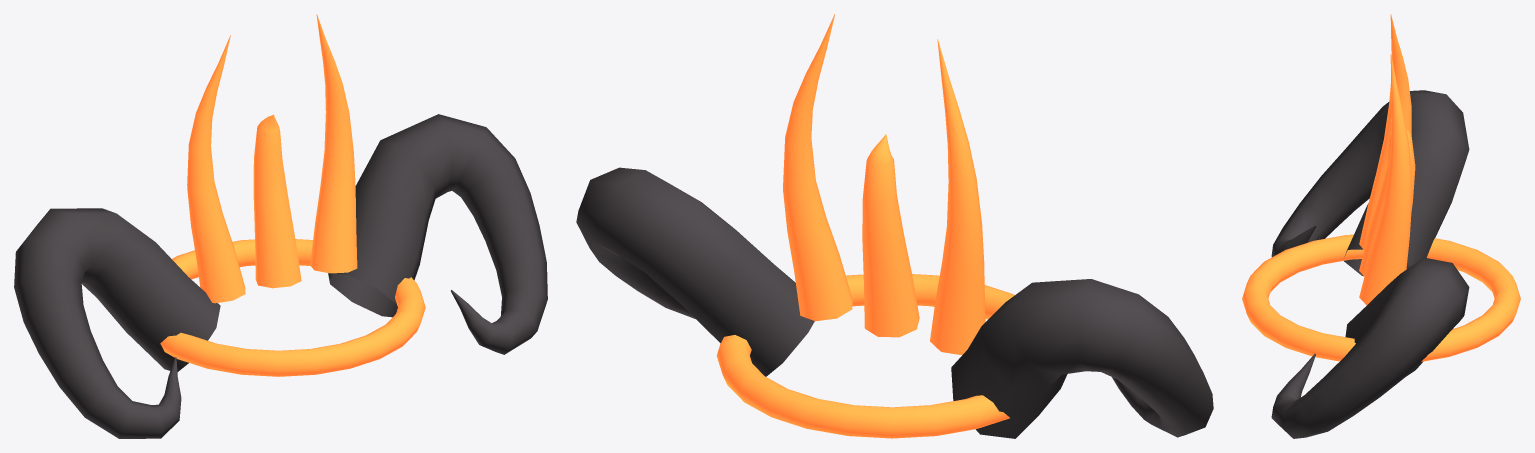
Rendered from PyreCrown.fbx.
3 views of the same model, side by side, from view 1: azimuth 30°, elevation 25°; view 2: azimuth 150°, elevation 25°; view 3: azimuth 270°, elevation 25° (orthographic). The views are drawn at different scales.
Parts seen in each view (by area): view 1: Tyrant ram horn_export, Tyrant ram horn.001_export, Crown circlet.001_export, Flame crown.002_export, Flame crown_export, Flame crown.001_export; view 2: Tyrant ram horn_export, Tyrant ram horn.001_export, Crown circlet.001_export, Flame crown.002_export, Flame crown_export, Flame crown.001_export; view 3: Tyrant ram horn.001_export, Tyrant ram horn_export, Crown circlet.001_export, Flame crown.002_export, Flame crown_export, Flame crown.001_export.
Boxes of the visible parts, x1=… form: Tyrant ram horn_export: x1=14, y1=208, x2=220, y2=438; Tyrant ram horn.001_export: x1=328, y1=114, x2=547, y2=354; Crown circlet.001_export: x1=160, y1=239, x2=425, y2=376; Flame crown.002_export: x1=310, y1=14, x2=357, y2=273; Flame crown_export: x1=187, y1=35, x2=245, y2=303; Flame crown.001_export: x1=253, y1=114, x2=301, y2=288; Tyrant ram horn_export: x1=951, y1=279, x2=1213, y2=438; Tyrant ram horn.001_export: x1=576, y1=167, x2=814, y2=376; Crown circlet.001_export: x1=716, y1=274, x2=1014, y2=438; Flame crown.002_export: x1=783, y1=14, x2=852, y2=321; Flame crown_export: x1=930, y1=39, x2=985, y2=355; Flame crown.001_export: x1=862, y1=134, x2=919, y2=337; Tyrant ram horn.001_export: x1=1271, y1=257, x2=1469, y2=438; Tyrant ram horn_export: x1=1271, y1=90, x2=1469, y2=276; Crown circlet.001_export: x1=1242, y1=234, x2=1520, y2=361; Flame crown.002_export: x1=1359, y1=54, x2=1411, y2=305; Flame crown_export: x1=1359, y1=14, x2=1411, y2=249; Flame crown.001_export: x1=1359, y1=119, x2=1415, y2=276.
Bounding box in the file's own units: 290 × 183 × 148.
